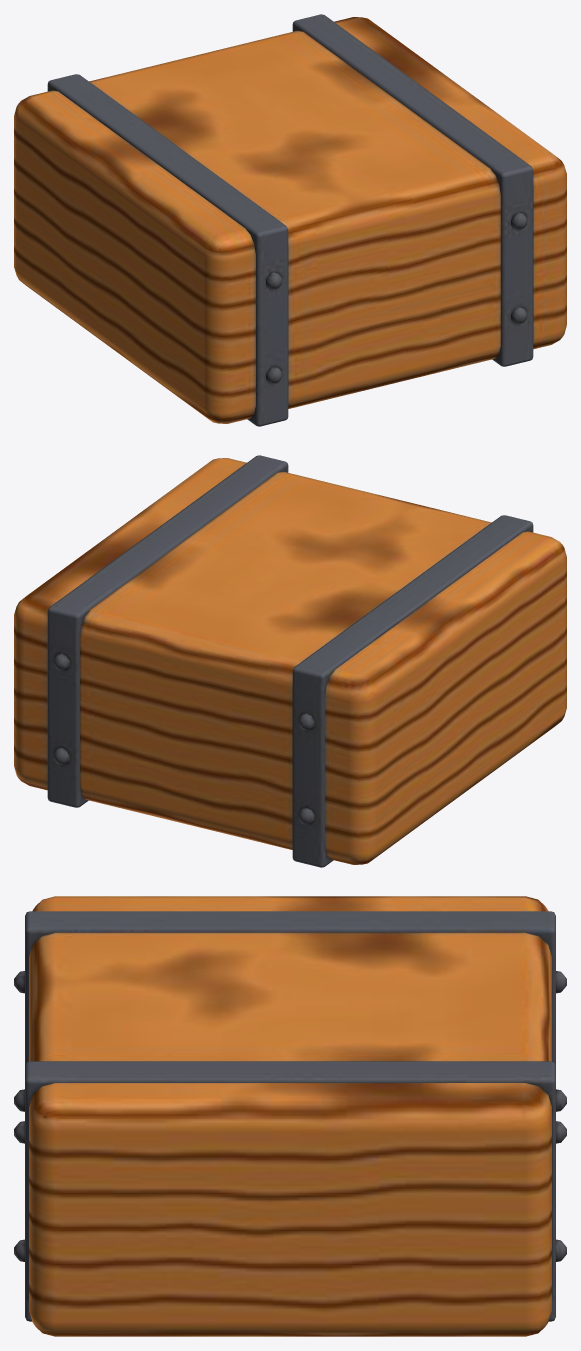
Rendered from kalas1.glb.
The picture shows the model from 3 angles, top to bottom: view 1: azimuth 30°, elevation 25°; view 2: azimuth 150°, elevation 25°; view 3: azimuth 270°, elevation 25°; orthographic projection. The views are drawn at different scales.
Parts seen in each view (by area): view 1: kalas; view 2: kalas; view 3: kalas.
Boxes of the visible parts, x1,y1,x2,y2 form: kalas: (14,14,566,426); kalas: (14,455,566,867); kalas: (14,896,566,1336).
Size of the model in its own units: 1 by 0.516 by 1.06.
Materials: 2 (2 with a texture image).
